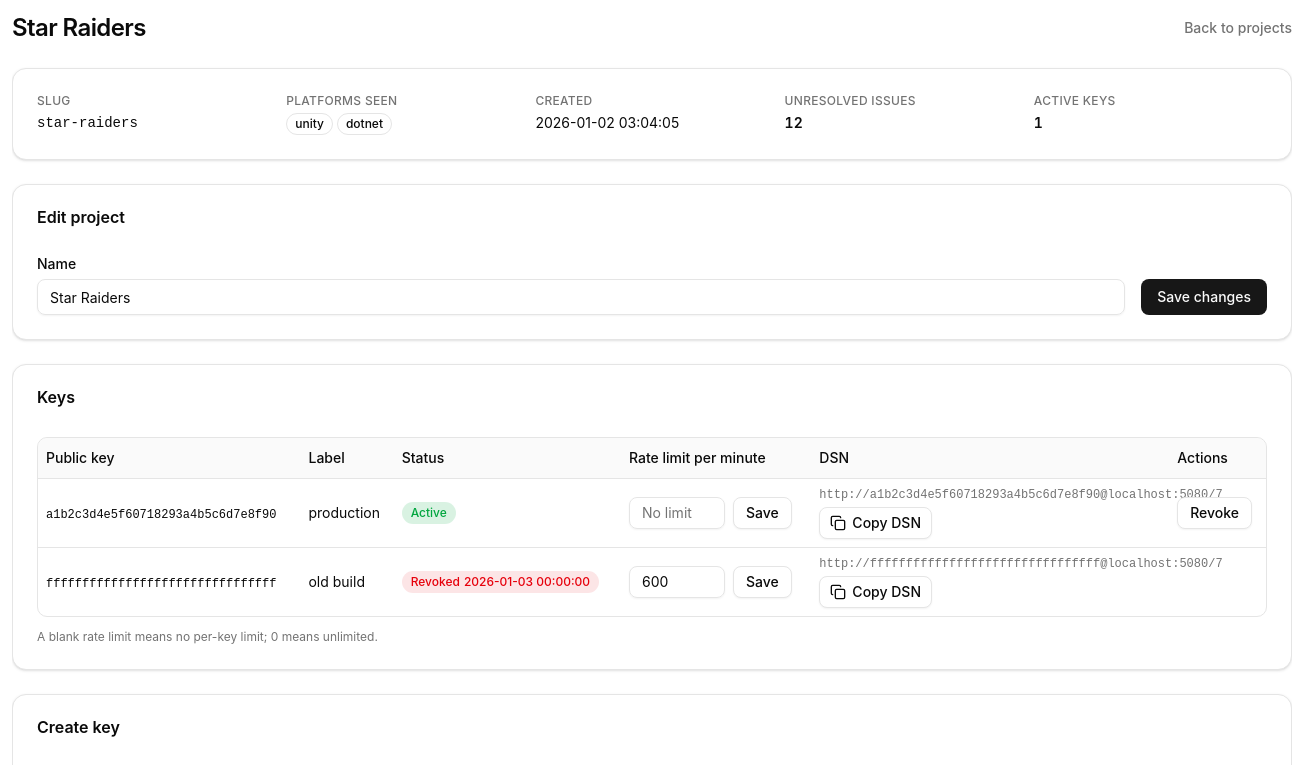
Test: ProjectDetailPage › rejects a negative rate limit without sending a request
The image size is (1304, 765).
Expected: the heading "Star Raiders" is shown, [12,12,146,44]
Type "-5" into the field with placeholder "No limit" at (677, 512), box [629,496,725,528]
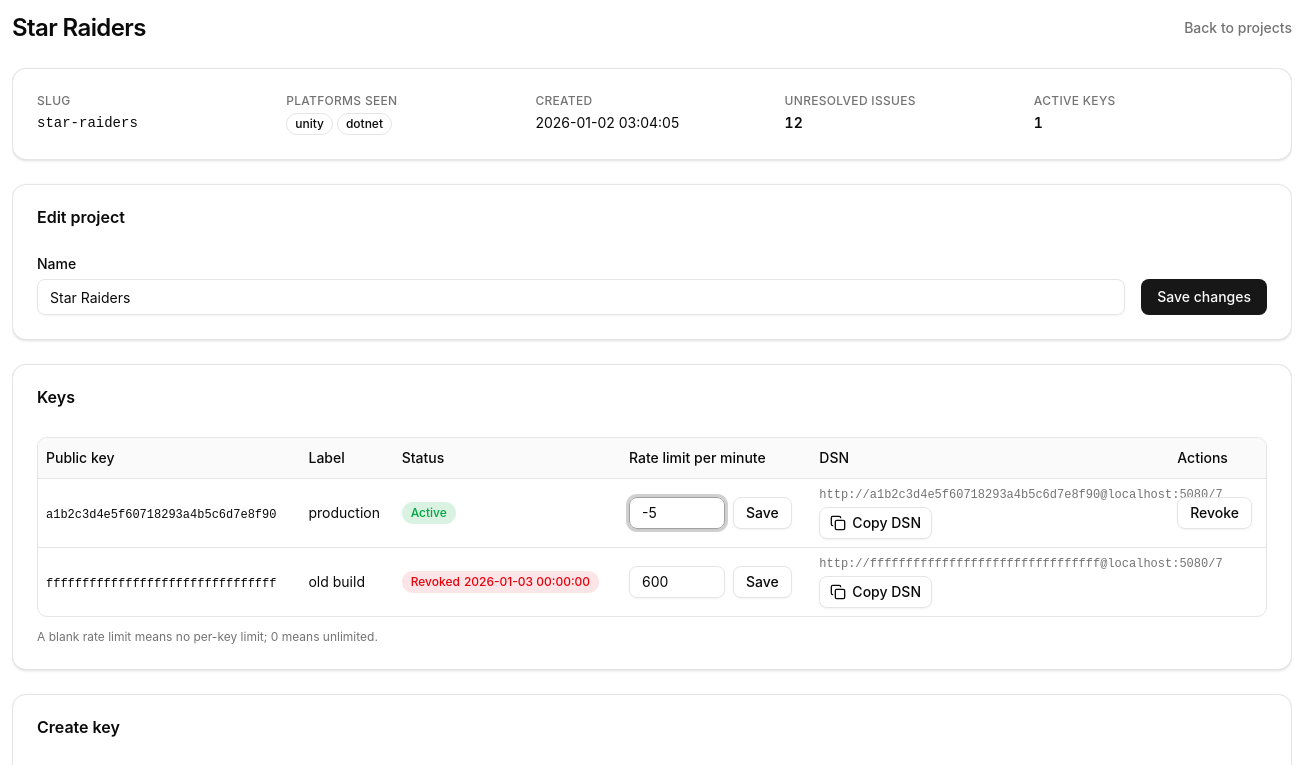
Click the button "Save" in the row of "production" at (762, 512), box [733,496,792,528]
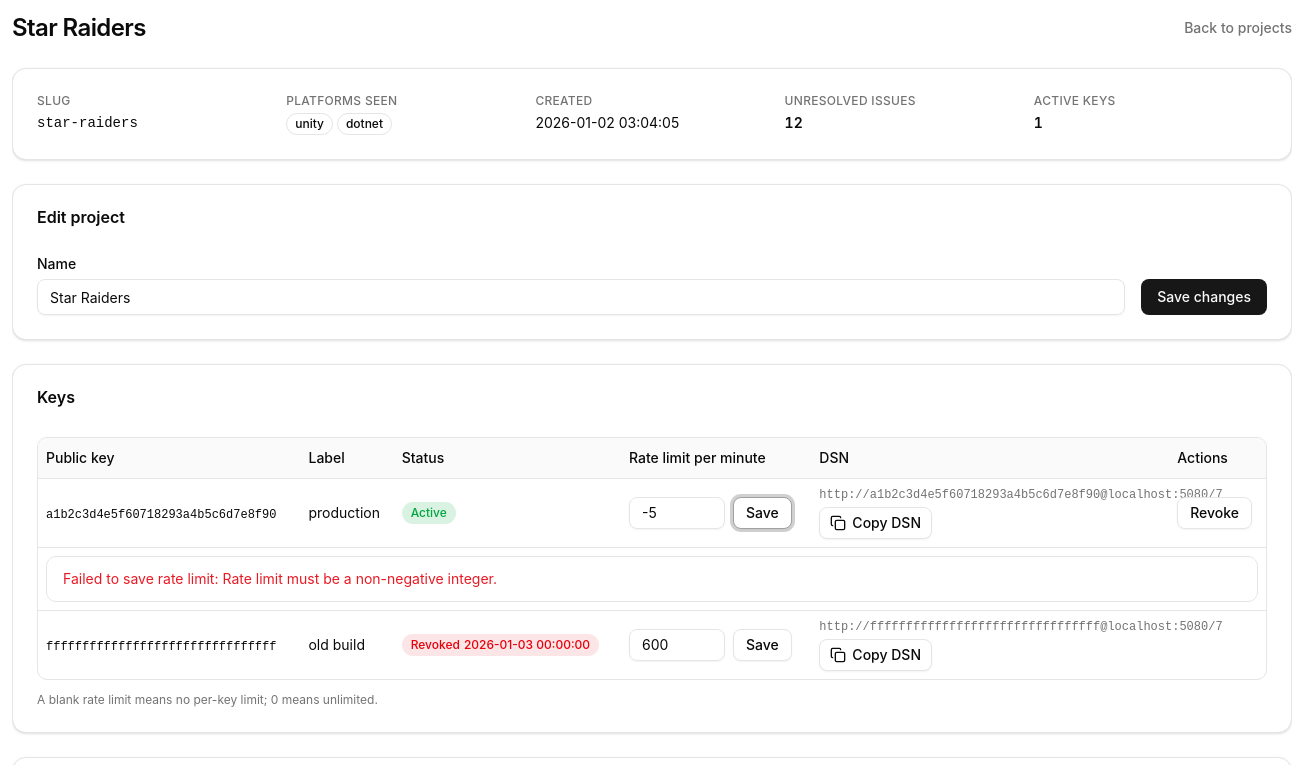
Result: the text "Failed to save rate limit: Rate limit must be a non-negative integer." is shown at [63,570,497,586]
